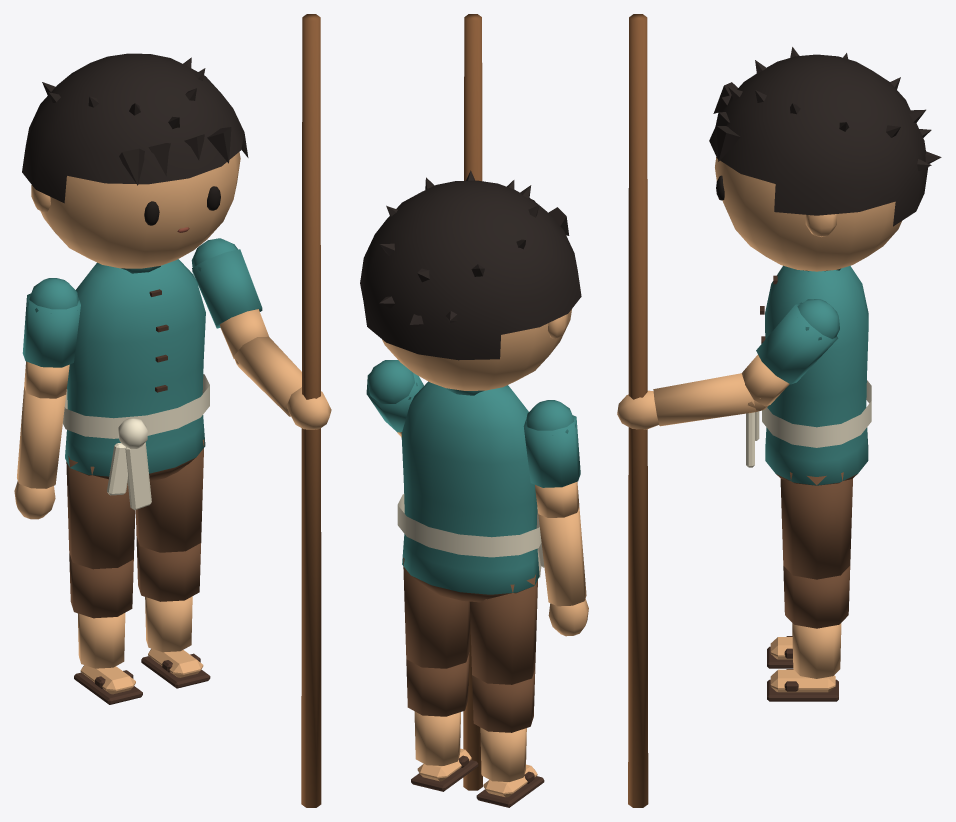
The model's file is central_pole_boatman.glb.
The picture shows the model from 3 angles, left to right: view 1: azimuth 30°, elevation 25°; view 2: azimuth 150°, elevation 25°; view 3: azimuth 270°, elevation 25°; orthographic projection. The views are drawn at different scales.
Visible parts, largest first — view 1: head, body, prop_pole, shin_R, shin_L, arm_R, leg_R, arm_L, forearm_R, leg_L, forearm_L; view 2: head, body, shin_L, shin_R, leg_R, arm_R, leg_L, forearm_R, prop_pole, arm_L; view 3: head, body, prop_pole, shin_L, leg_L, arm_L, forearm_L, shin_R.
Boxes of the visible parts, bbox=[...] form: head: bbox=[22, 53, 248, 268]; body: bbox=[63, 259, 209, 510]; prop_pole: bbox=[301, 14, 321, 807]; shin_R: bbox=[69, 553, 142, 704]; shin_L: bbox=[136, 537, 210, 688]; arm_R: bbox=[22, 278, 80, 398]; leg_R: bbox=[66, 456, 135, 569]; arm_L: bbox=[191, 238, 268, 365]; forearm_R: bbox=[14, 387, 65, 519]; leg_L: bbox=[135, 439, 204, 552]; forearm_L: bbox=[233, 336, 331, 429]; head: bbox=[360, 170, 581, 390]; body: bbox=[397, 381, 544, 602]; shin_L: bbox=[406, 652, 478, 791]; shin_R: bbox=[472, 669, 544, 807]; leg_R: bbox=[470, 574, 537, 684]; arm_R: bbox=[523, 400, 580, 517]; leg_L: bbox=[403, 557, 470, 668]; forearm_R: bbox=[538, 507, 588, 636]; prop_pole: bbox=[463, 14, 482, 790]; arm_L: bbox=[366, 360, 423, 437]; head: bbox=[709, 47, 941, 271]; body: bbox=[746, 265, 871, 485]; prop_pole: bbox=[628, 14, 648, 807]; shin_L: bbox=[767, 566, 850, 701]; leg_L: bbox=[780, 472, 852, 579]; arm_L: bbox=[741, 299, 839, 413]; forearm_L: bbox=[617, 373, 765, 429]; shin_R: bbox=[767, 636, 793, 668].
Size of the model in its own units: 0.5702 by 1.9 by 0.7107.
